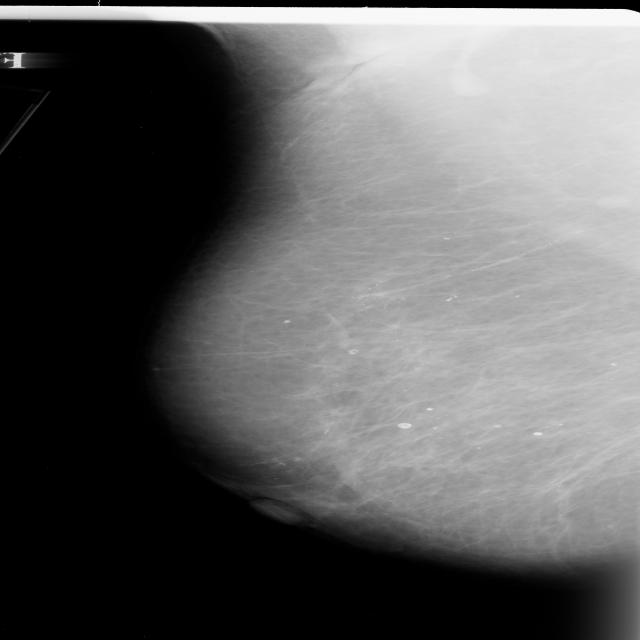normal: (129, 18, 640, 561)
